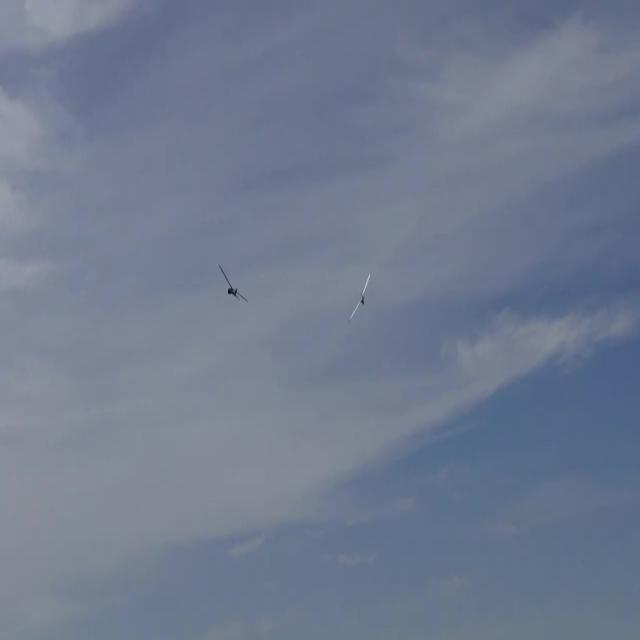iha: (218, 261, 248, 303), (348, 273, 370, 324)
